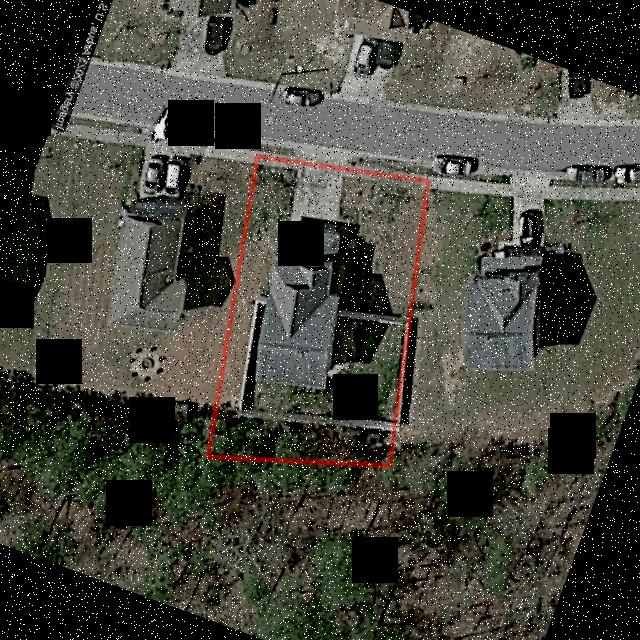Driveway: (290, 167, 340, 222)
Extra Driveway: (299, 143, 342, 166)
Extra Lawn: (354, 157, 421, 176), (258, 145, 295, 158)
House: (253, 227, 345, 392)
